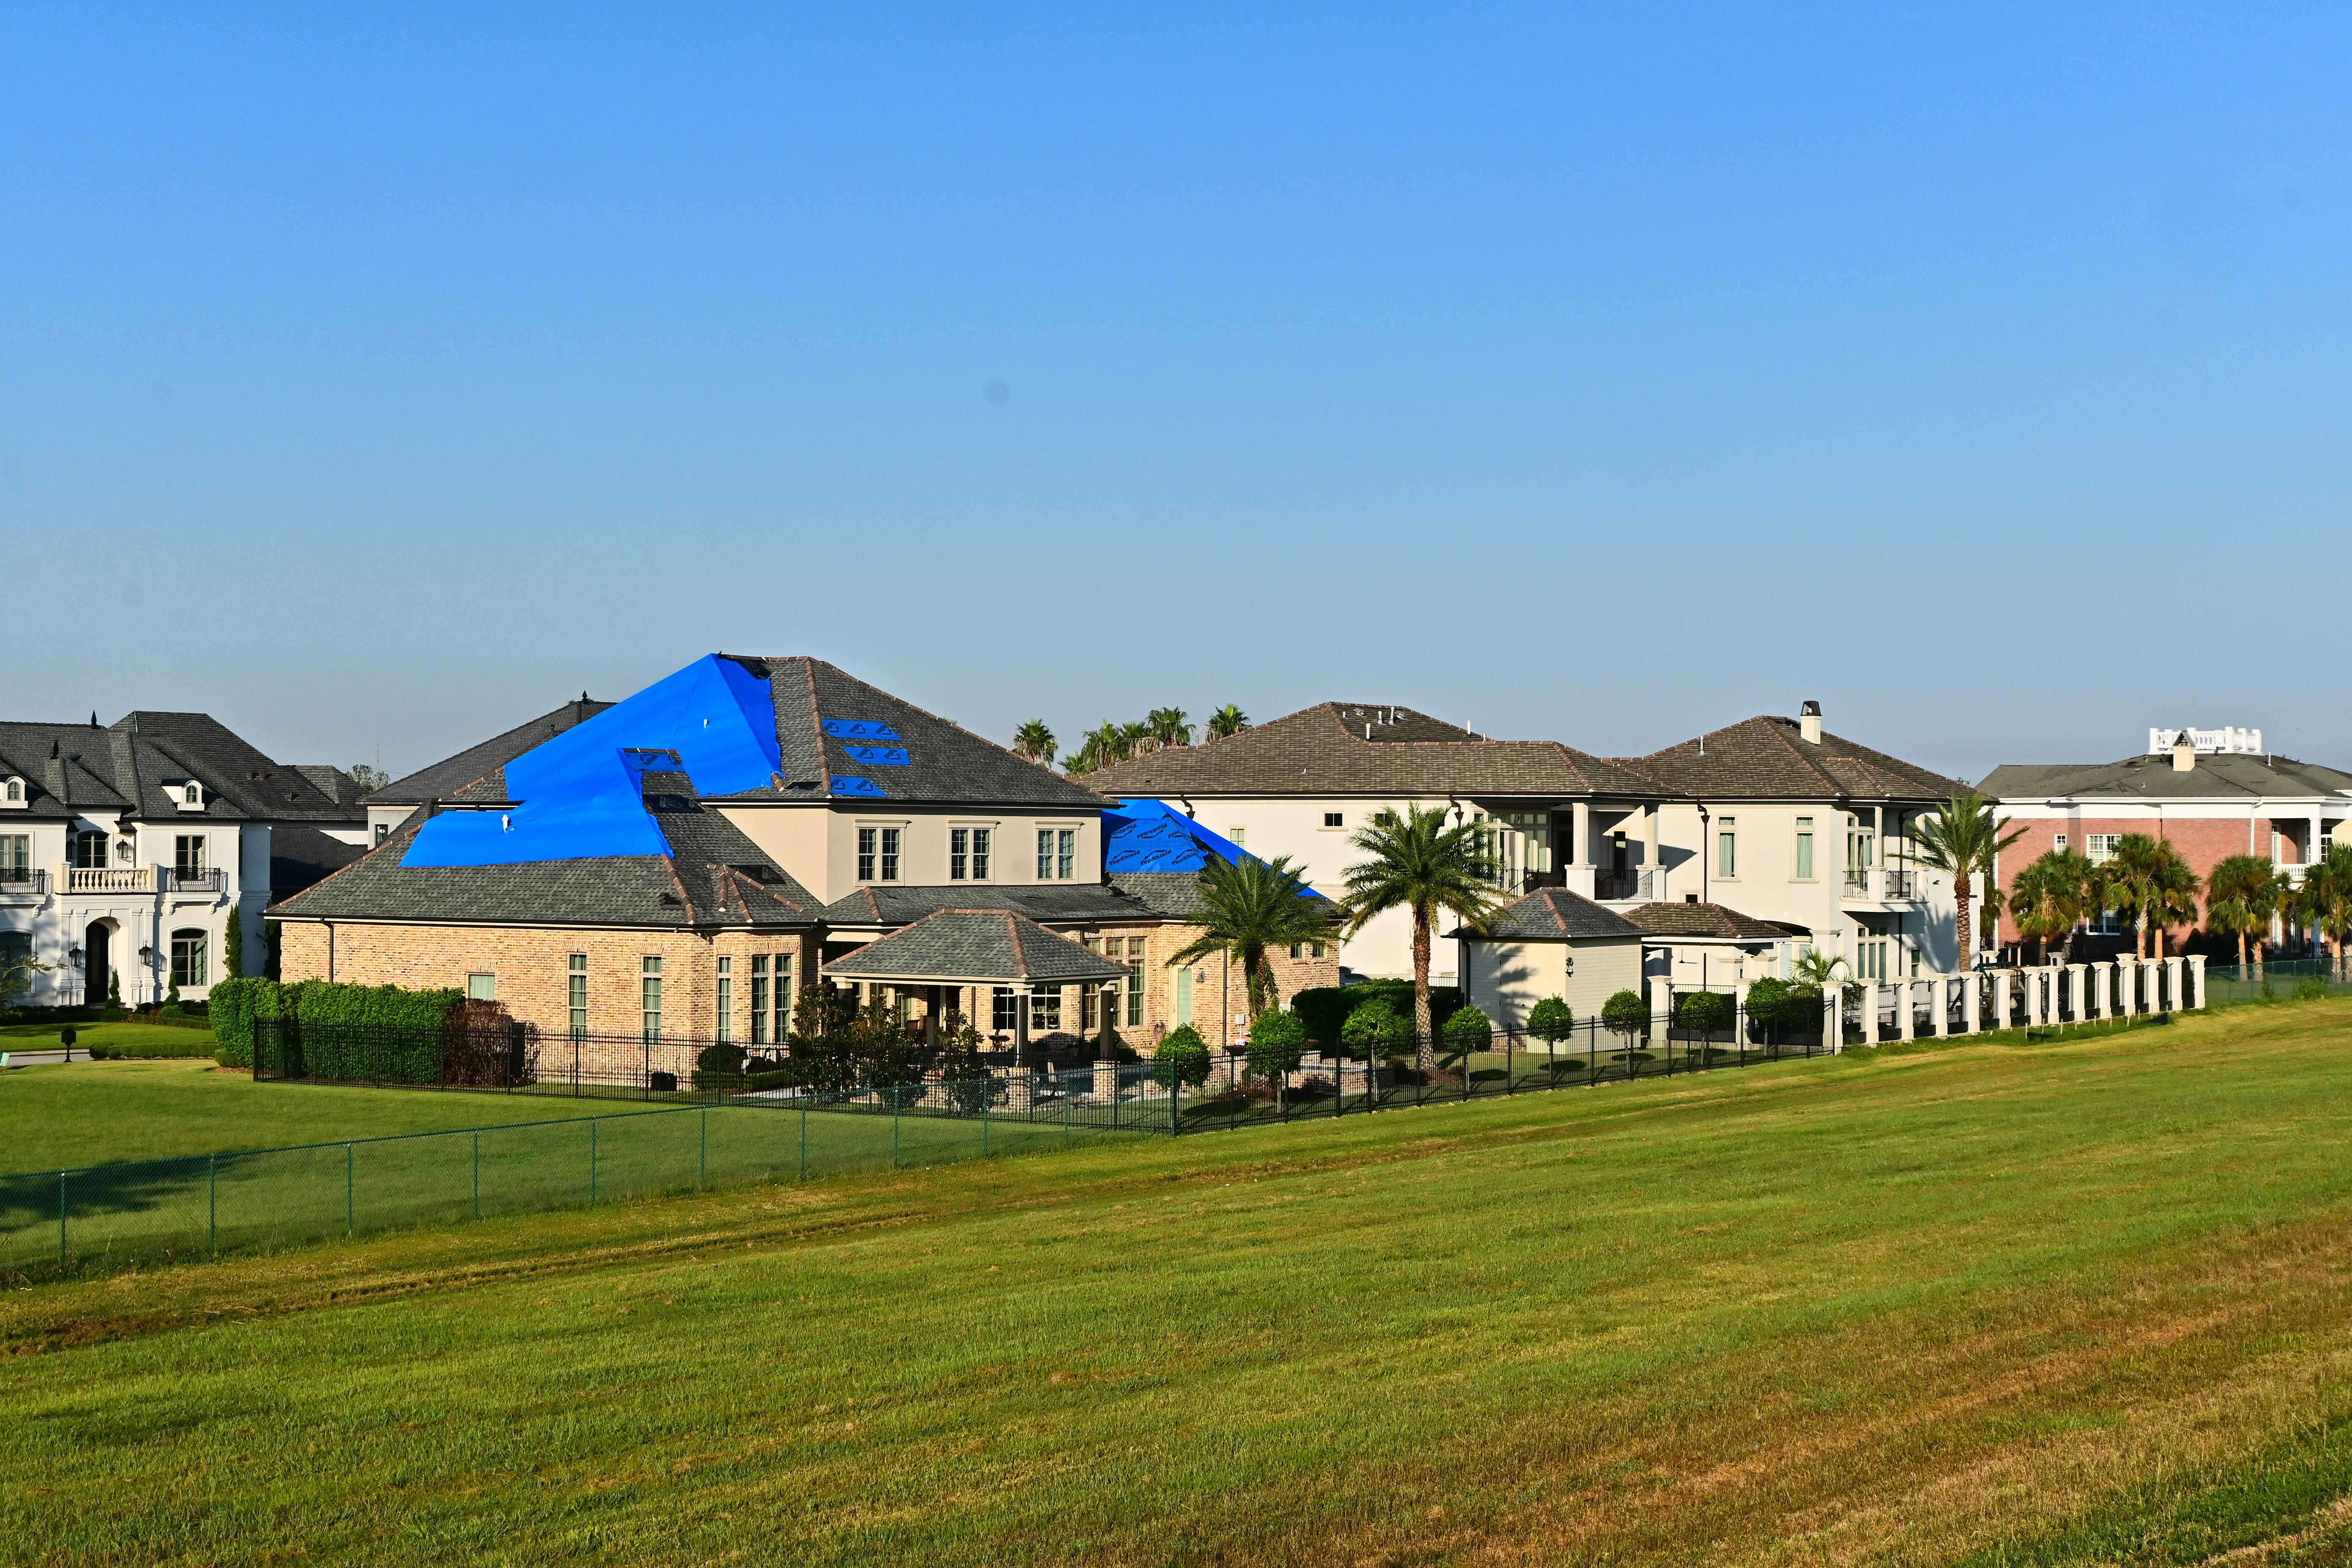affected: (1369, 705, 2317, 1010)
minor: (240, 628, 1346, 1097)
